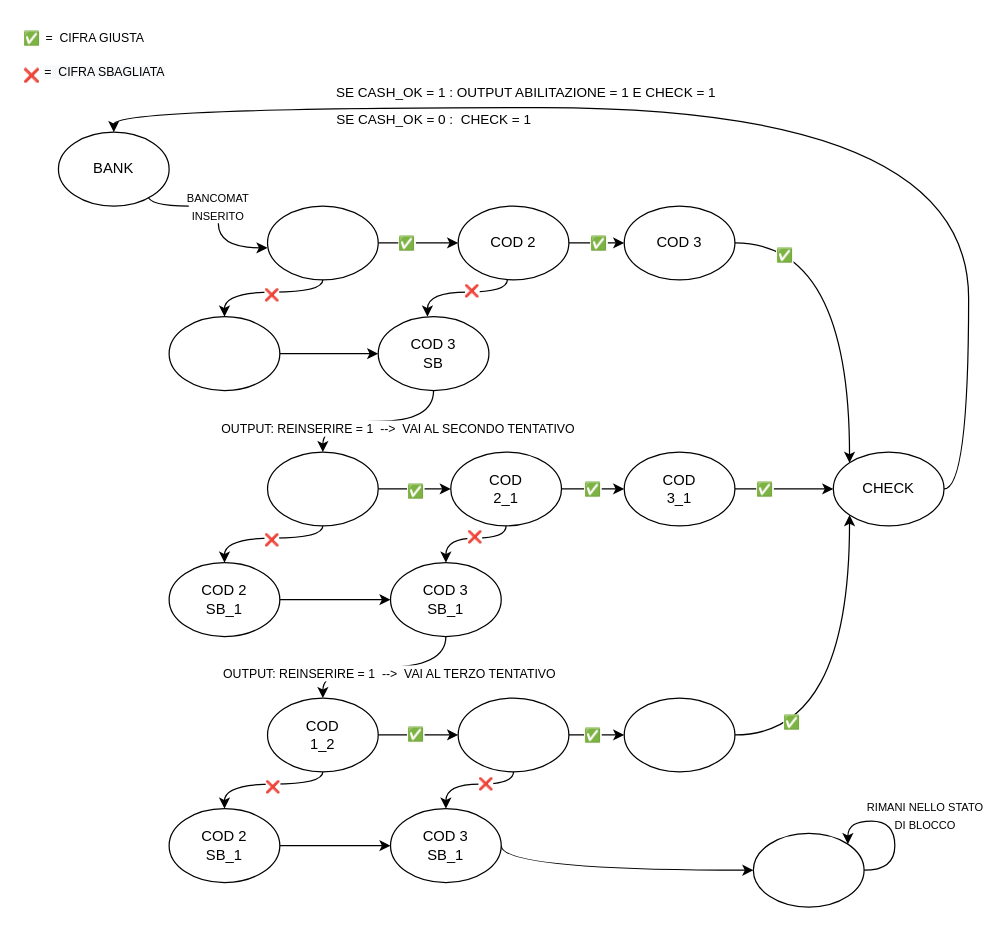
The diagram is 1007 pixels wide and 929 high, and some of its shapes have lost their labels. The centre of each missing label's shape, as x and y in pixels:
"BLOCCO" belongs at [808,869].
"COD 1" belongs at [322,242].
"COD 1_1" belongs at [322,488].
"COD 2 SB" belongs at [224,353].
"COD 2_2" belongs at [513,734].
"COD 3_2" belongs at [679,734].
